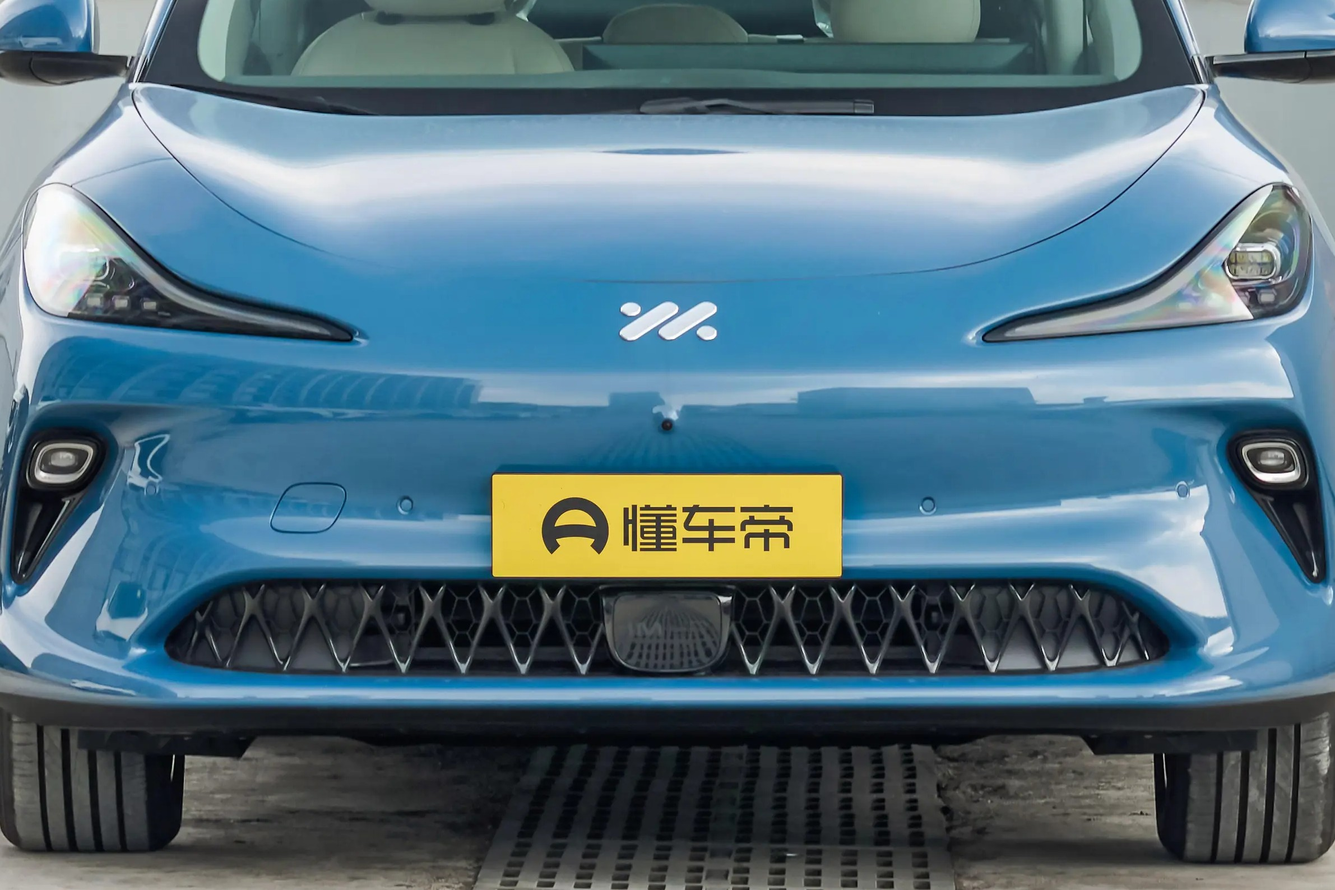IM: (619, 302, 717, 341)
